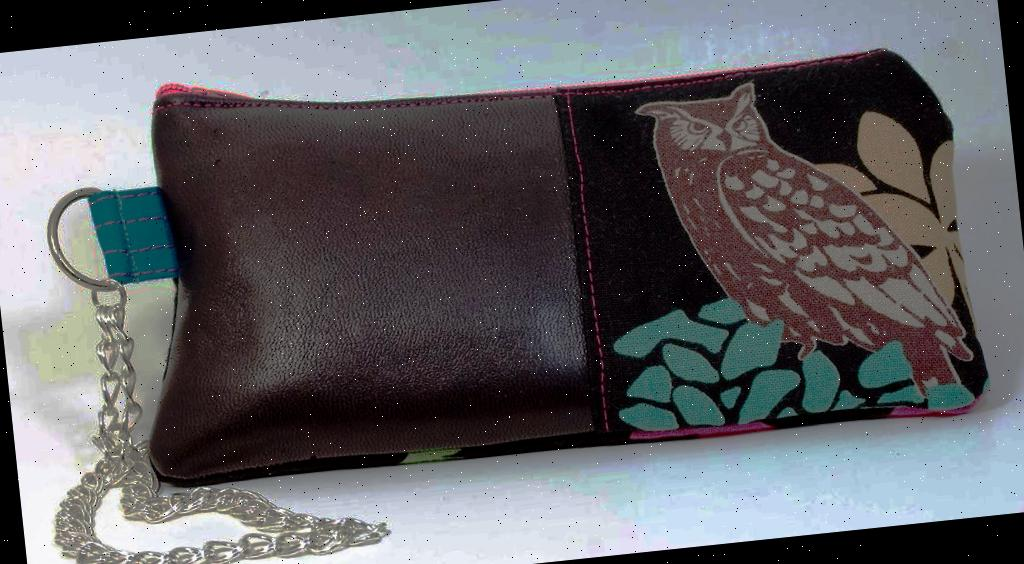Owl: (630, 61, 978, 429)
